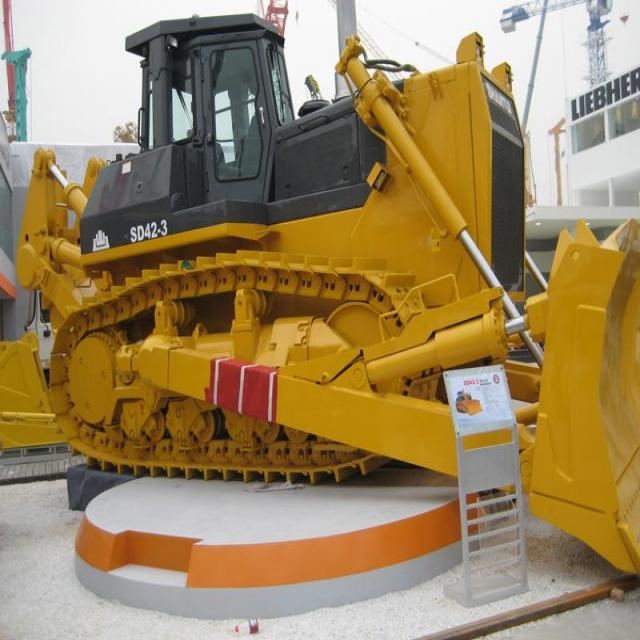Bulldozer: (18, 8, 640, 582)
